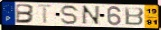6: (106, 6, 123, 27)
B: (124, 6, 146, 27), (15, 3, 36, 24)
N: (81, 5, 102, 26)
S: (60, 5, 81, 26)
T: (36, 4, 55, 25)
